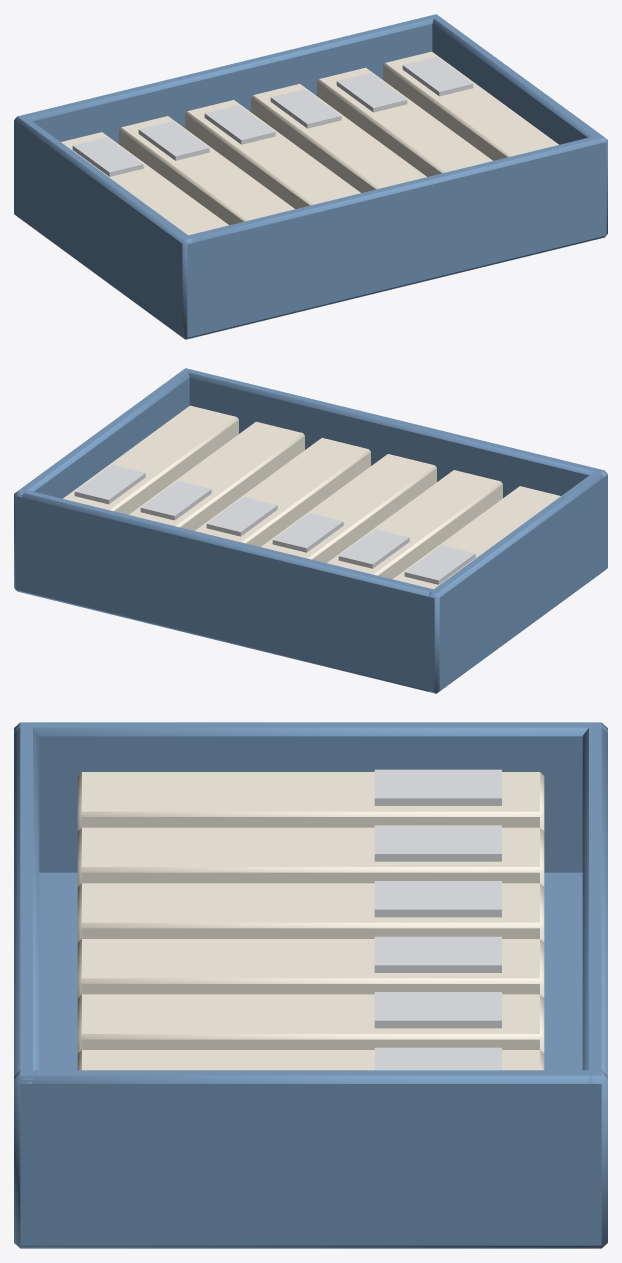
The model's file is needle_box.glb.
3 renders of one model, top to bottom at view 1: azimuth 30°, elevation 25°; view 2: azimuth 150°, elevation 25°; view 3: azimuth 270°, elevation 25°, orthographic. The views are drawn at different scales.
Parts seen in each view (by area): view 1: needle_box; view 2: needle_box; view 3: needle_box.
Part boxes in pixels (left/top/right/bottom): needle_box: left=14, top=14, right=607, bottom=339; needle_box: left=14, top=368, right=607, bottom=693; needle_box: left=14, top=722, right=607, bottom=1248.
Size of the model in its own units: 0.2 by 0.045 by 0.14.
